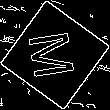M_E: (26, 28, 84, 82)
